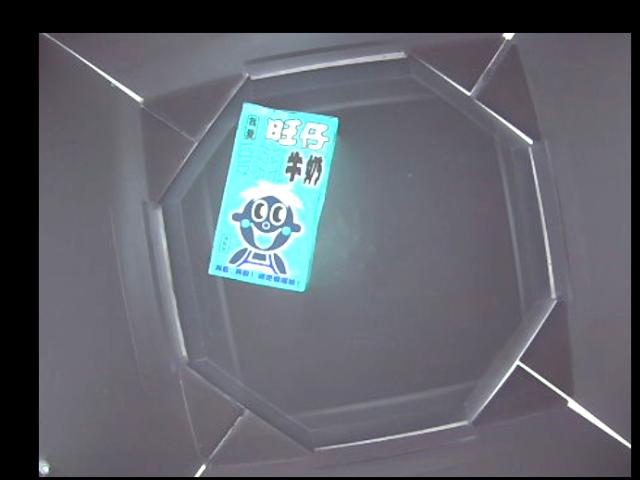Bottle: (206, 101, 339, 288)
